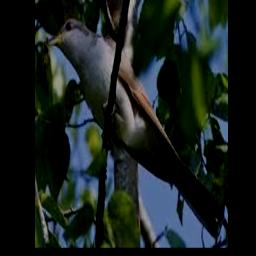Cuckoo: (49, 16, 224, 239)
